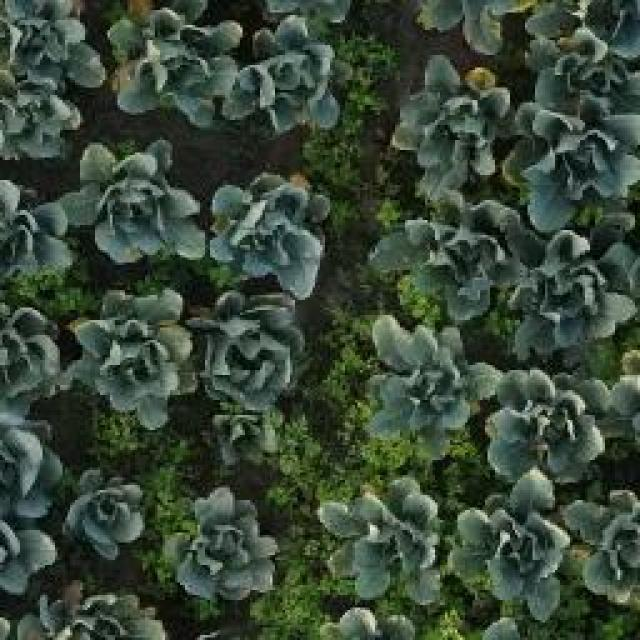cabbage: (448, 467, 580, 621), (369, 185, 516, 317), (361, 317, 499, 457), (317, 470, 447, 611), (69, 284, 196, 428), (61, 140, 208, 264), (101, 0, 243, 127), (521, 84, 640, 232), (484, 359, 618, 484), (386, 53, 512, 185), (164, 483, 286, 602), (205, 173, 328, 289), (232, 12, 348, 131), (508, 236, 617, 351), (195, 291, 310, 397), (525, 0, 640, 95), (58, 458, 154, 564), (0, 0, 106, 89), (0, 80, 86, 161), (202, 398, 289, 475)
